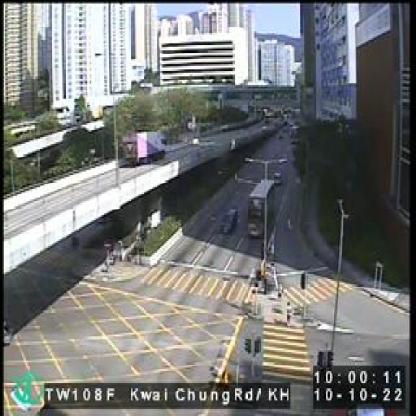Bus: (249, 177, 274, 235)
Car: (221, 206, 239, 234), (247, 224, 259, 239)
